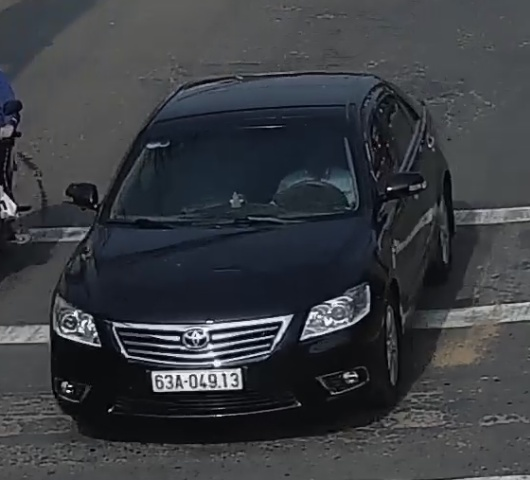vehicle plate: (148, 362, 247, 395)
